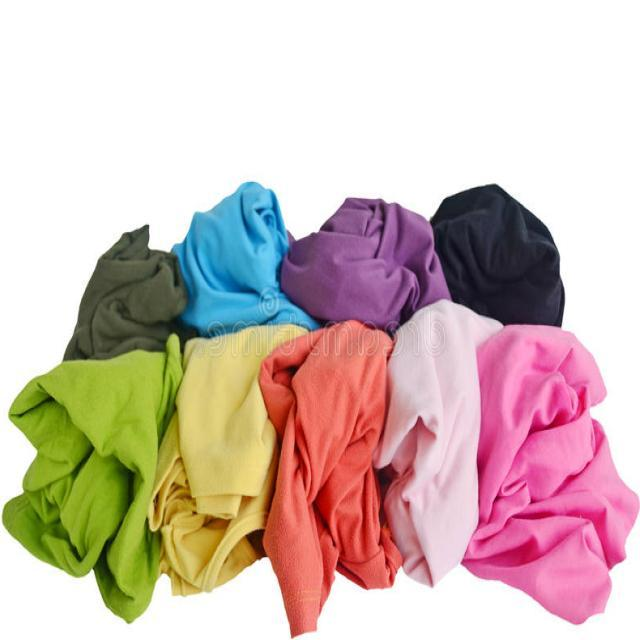clothes: (11, 221, 616, 599)
